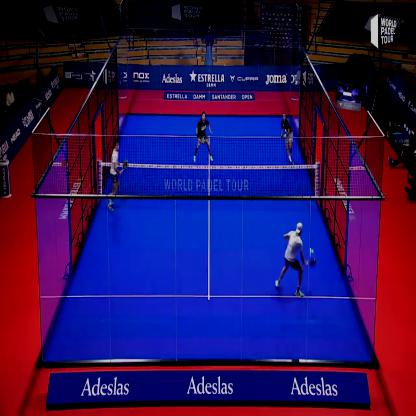ball: (310, 248, 315, 258)
